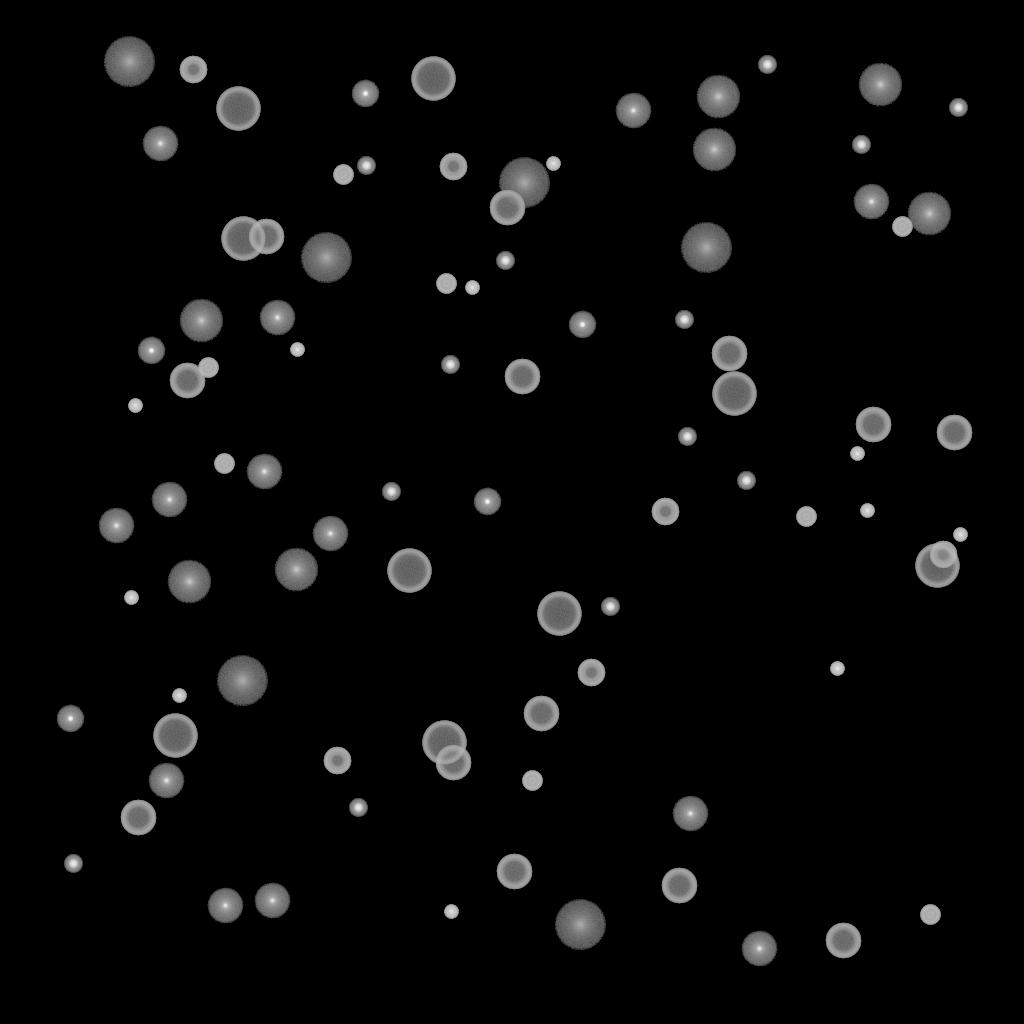depth:-10: (351, 80, 379, 108), (137, 337, 165, 365), (56, 705, 84, 733), (568, 311, 596, 339), (473, 488, 501, 516)
depth:-20: (852, 136, 870, 154), (675, 311, 693, 329), (349, 799, 367, 817), (737, 472, 755, 490), (382, 483, 400, 501), (496, 252, 514, 270), (357, 157, 375, 175), (949, 99, 967, 117), (441, 356, 459, 374), (601, 598, 619, 616), (758, 56, 776, 74), (64, 855, 82, 873), (678, 428, 696, 446)
depth:-30: (850, 447, 864, 461), (124, 591, 138, 605), (830, 662, 844, 676), (290, 343, 304, 357), (444, 905, 458, 919), (860, 504, 874, 518), (465, 281, 479, 295), (128, 399, 142, 413), (546, 157, 560, 171), (172, 689, 186, 703), (953, 528, 967, 542)
depth:-40: (333, 165, 353, 185), (522, 771, 542, 791), (892, 217, 912, 237), (214, 454, 234, 474), (796, 507, 816, 527), (920, 905, 940, 925), (198, 358, 218, 378), (436, 274, 456, 294)
depth:-50: (651, 498, 679, 526), (577, 659, 605, 687), (929, 541, 957, 569), (439, 153, 467, 181), (179, 56, 207, 84), (323, 747, 351, 775)
depth:-60: (120, 800, 156, 836), (496, 854, 532, 890), (855, 407, 891, 443), (711, 336, 747, 372), (489, 190, 525, 226), (661, 868, 697, 904), (169, 363, 205, 399), (825, 923, 861, 959), (936, 415, 972, 451), (504, 359, 540, 395), (435, 745, 471, 781), (523, 696, 559, 732), (248, 219, 284, 255)
depth:-70: (216, 87, 260, 131), (915, 544, 959, 588), (387, 549, 431, 593), (712, 372, 756, 416), (221, 217, 265, 261), (537, 592, 581, 636), (411, 57, 455, 101), (422, 721, 466, 765), (153, 714, 197, 758)
depth:0: (853, 184, 889, 220), (259, 300, 295, 336), (98, 508, 134, 544), (672, 796, 708, 832), (142, 126, 178, 162), (151, 482, 187, 518), (312, 516, 348, 552), (254, 883, 290, 919), (741, 931, 777, 967), (148, 763, 184, 799), (207, 888, 243, 924), (615, 93, 651, 129), (246, 454, 282, 490)
depth:10: (167, 560, 211, 604), (696, 75, 740, 119), (692, 128, 736, 172), (179, 299, 223, 343), (274, 548, 318, 592), (907, 192, 951, 236), (858, 63, 902, 107)
depth:20: (554, 900, 606, 950), (103, 37, 155, 87), (680, 223, 732, 273), (498, 158, 550, 208), (216, 656, 268, 706), (300, 233, 352, 283)
